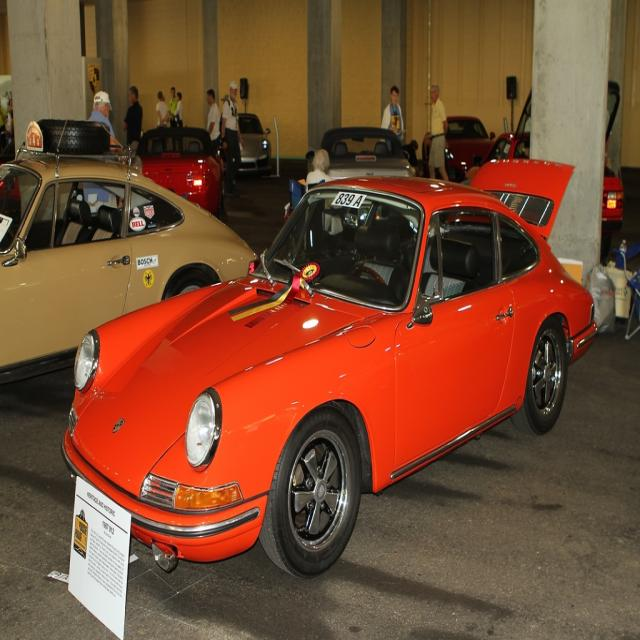Car: (62, 157, 598, 579), (0, 150, 259, 384), (492, 81, 624, 261), (306, 127, 416, 181), (422, 116, 494, 183), (217, 116, 270, 176)
